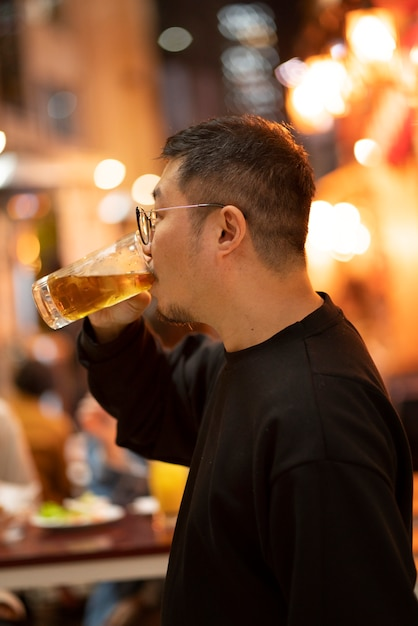alcohol: (32, 229, 161, 329)
